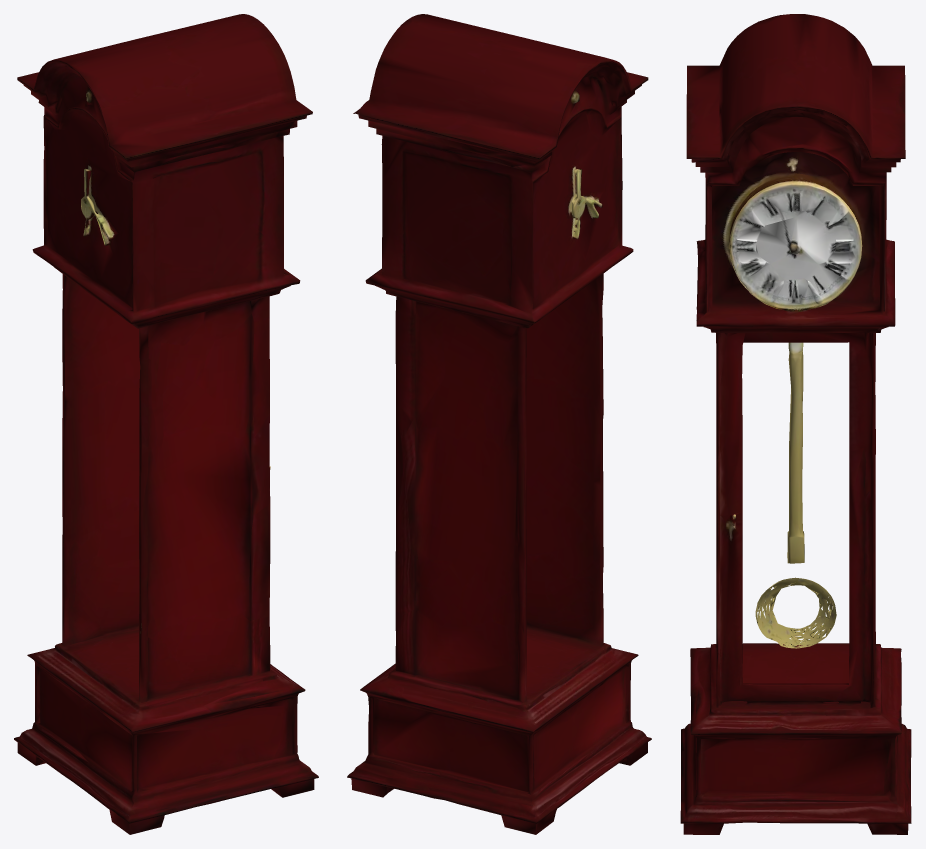
File: reloj.glb
The picture shows the model from 3 angles, left to right: view 1: azimuth 30°, elevation 25°; view 2: azimuth 150°, elevation 25°; view 3: azimuth 270°, elevation 25°; orthographic projection.
Parts seen in each view (by area): view 1: tripo_node_14db318b-a1ef-4a01-ade0-90c6afb41ee2; view 2: tripo_node_14db318b-a1ef-4a01-ade0-90c6afb41ee2; view 3: tripo_node_14db318b-a1ef-4a01-ade0-90c6afb41ee2.
Part boxes in pixels (bbox=[...]): tripo_node_14db318b-a1ef-4a01-ade0-90c6afb41ee2: bbox=[14, 14, 318, 834]; tripo_node_14db318b-a1ef-4a01-ade0-90c6afb41ee2: bbox=[347, 14, 651, 834]; tripo_node_14db318b-a1ef-4a01-ade0-90c6afb41ee2: bbox=[680, 14, 911, 834].
Bounding box in the file's own units: 0.2728 × 1 × 0.2867.
1 material, 1 textured.
